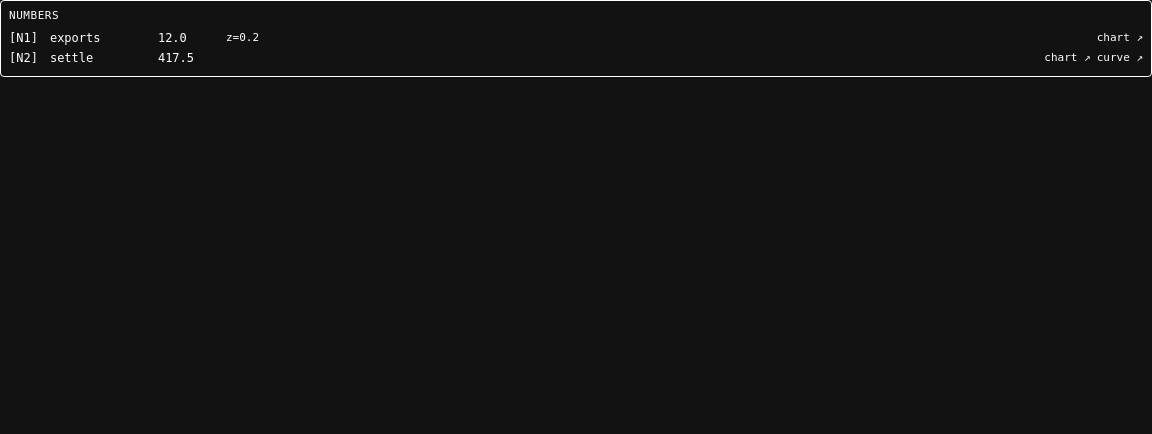
it: Numbers curve view (D-AM-21) › offers the axis switch on a futures row and NOT on an ordinary one
Click the button "[N1] exports 12.0 z=0.2": x=75, y=38 [9,28,1089,48]
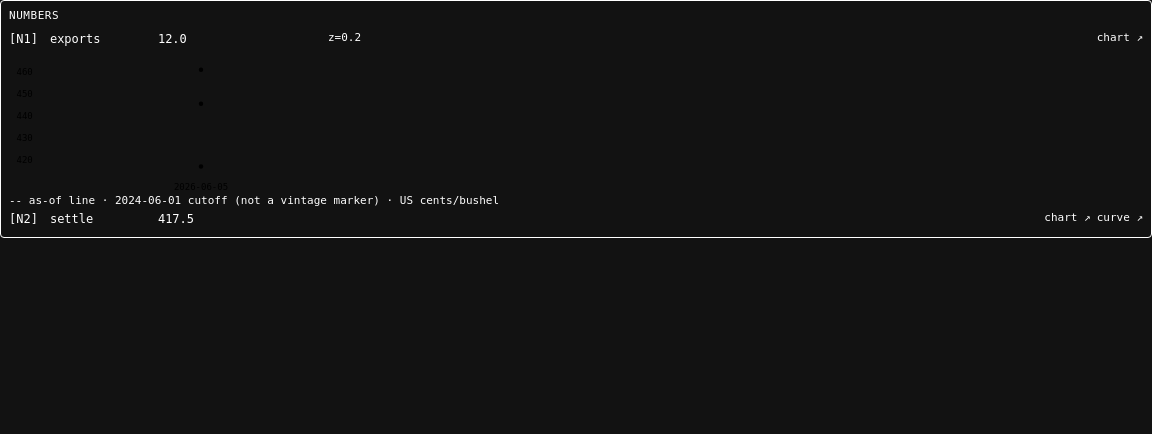
Click the button "[N2] settle 417.5": x=72, y=219 [9,209,1036,229]
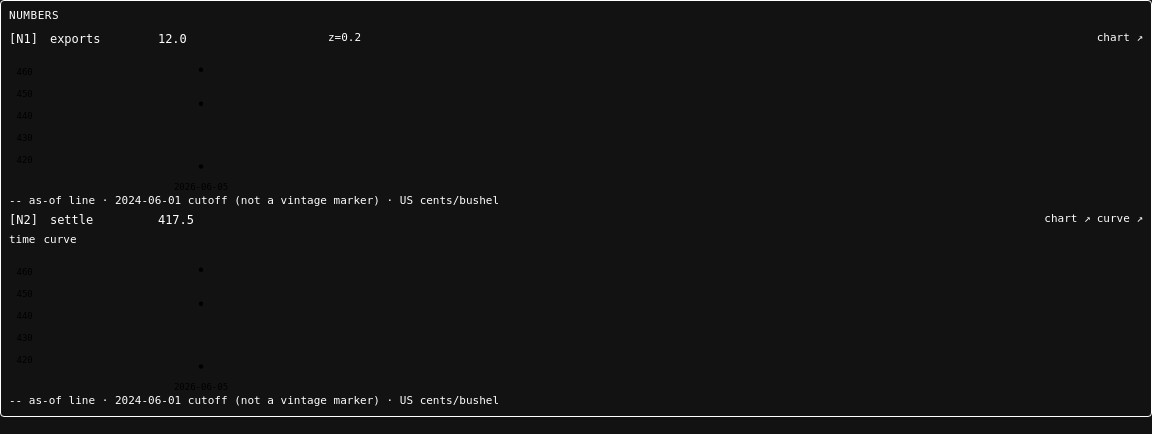
Check: the button "curve" is shown, box [44,233,77,248]
